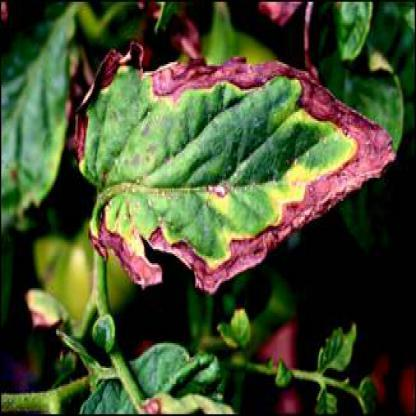Tomato leaf late blight: (76, 39, 398, 299)
